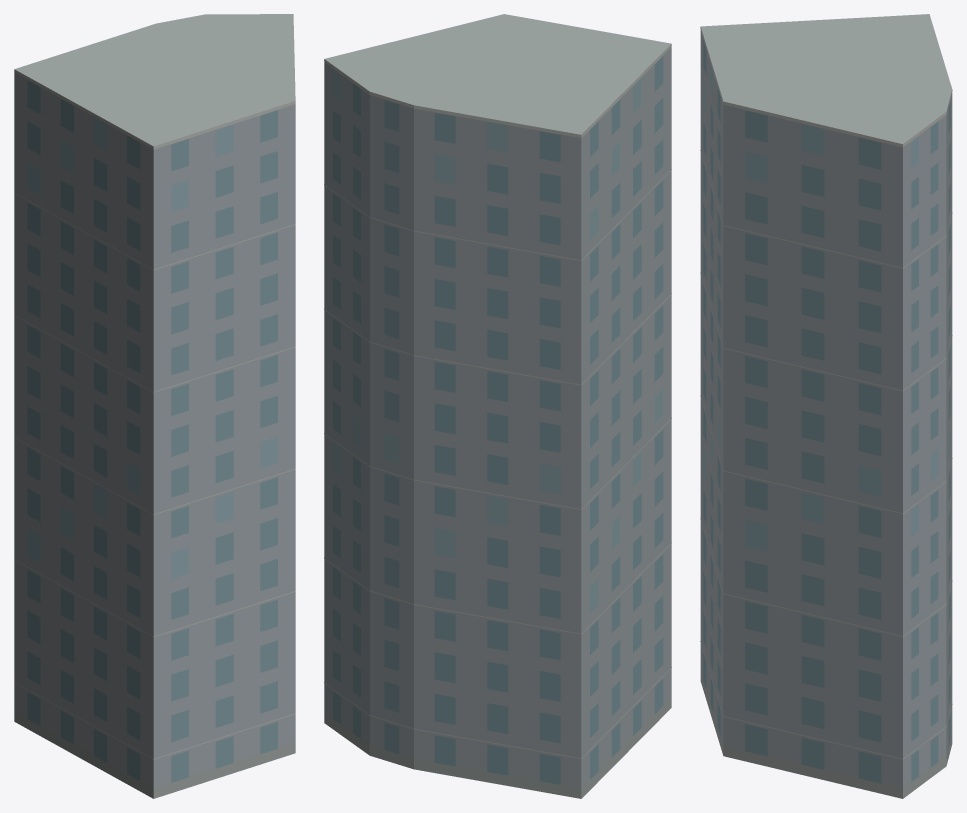
Rendered from residential-ae92c786-bc17-4bc7-bab2-650093480326.glb.
3 views of the same model, side by side, from view 1: azimuth 30°, elevation 25°; view 2: azimuth 150°, elevation 25°; view 3: azimuth 270°, elevation 25° (orthographic).
Visible parts, largest first — view 1: residential-ae92c786-bc17-4bc7-bab2-650093480326.tmp; view 2: residential-ae92c786-bc17-4bc7-bab2-650093480326.tmp; view 3: residential-ae92c786-bc17-4bc7-bab2-650093480326.tmp.
Part boxes in pixels (x1,y1,x2,y2): residential-ae92c786-bc17-4bc7-bab2-650093480326.tmp: (14, 14, 295, 798); residential-ae92c786-bc17-4bc7-bab2-650093480326.tmp: (324, 14, 671, 798); residential-ae92c786-bc17-4bc7-bab2-650093480326.tmp: (700, 14, 952, 798).
Bounding box in the file's own units: 20.5 × 48 × 16.75.
